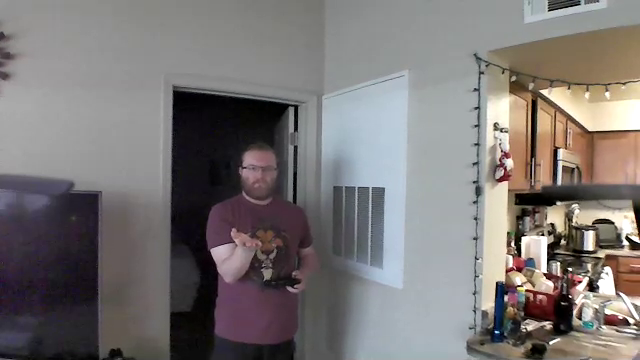land: (229, 223, 270, 254)
